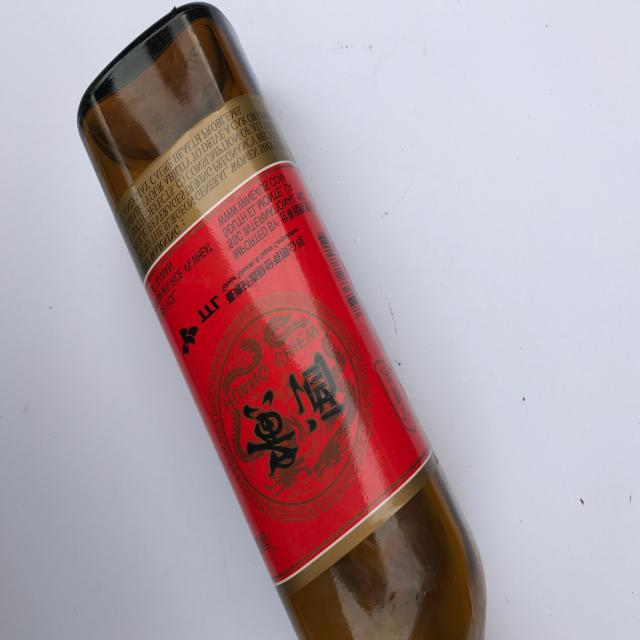glass: (77, 1, 489, 640)
